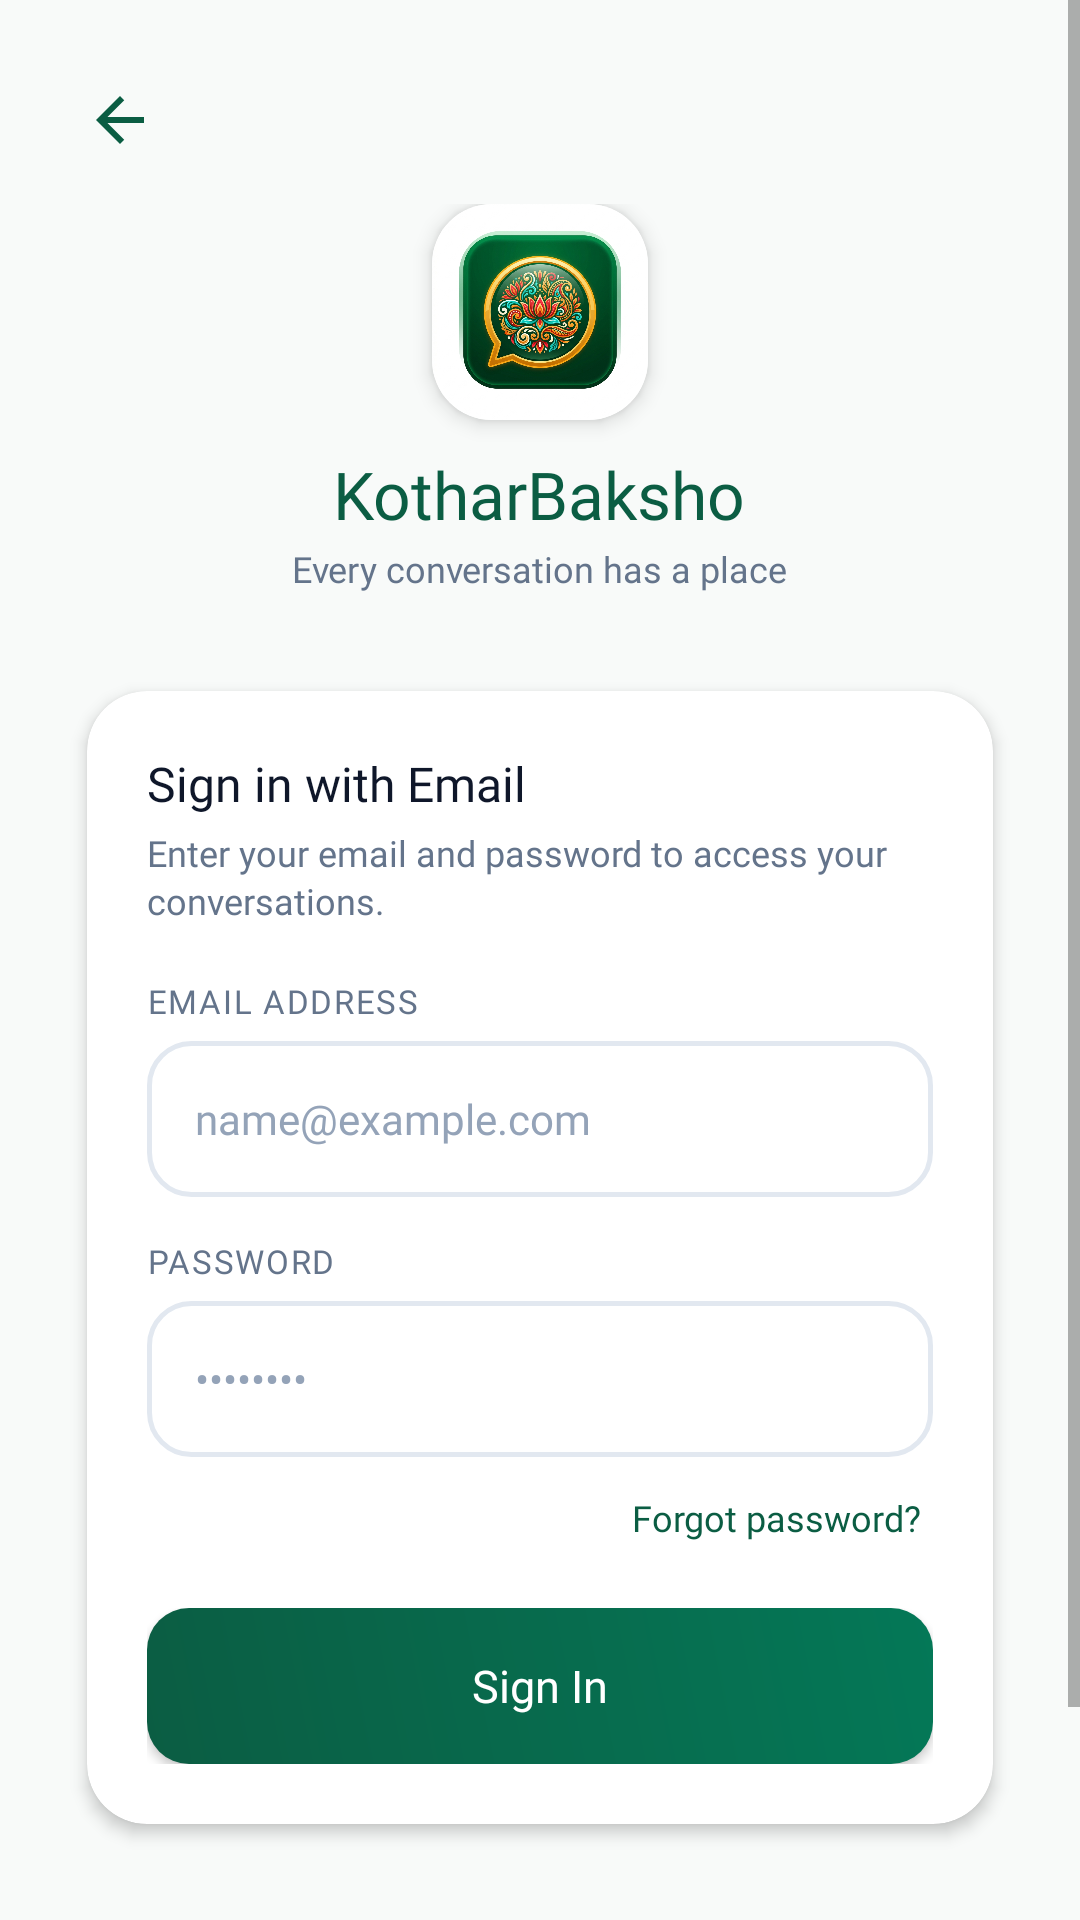

Icons on this 1080×1920 Android screen, each with the point to tap as [x,y]:
back arrow: [120,120]
